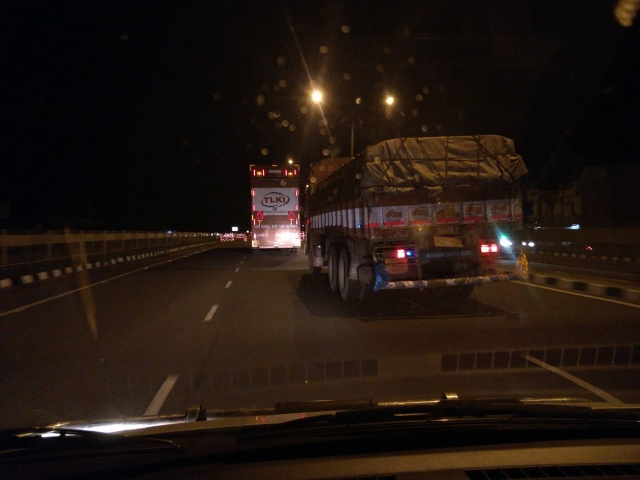bus: (242, 158, 304, 251)
truck: (309, 130, 545, 305)
